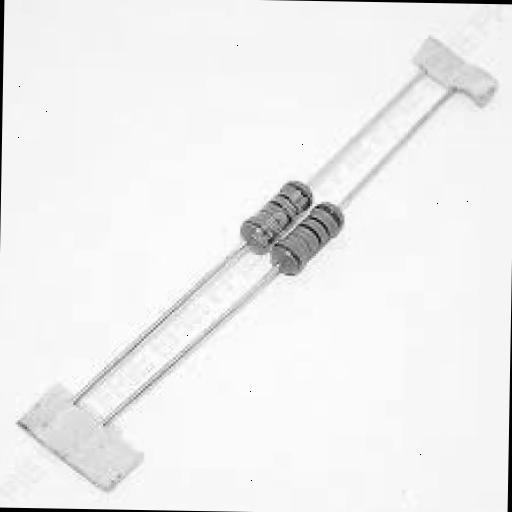RESISTOR: (236, 189, 376, 299), (196, 164, 332, 265)
